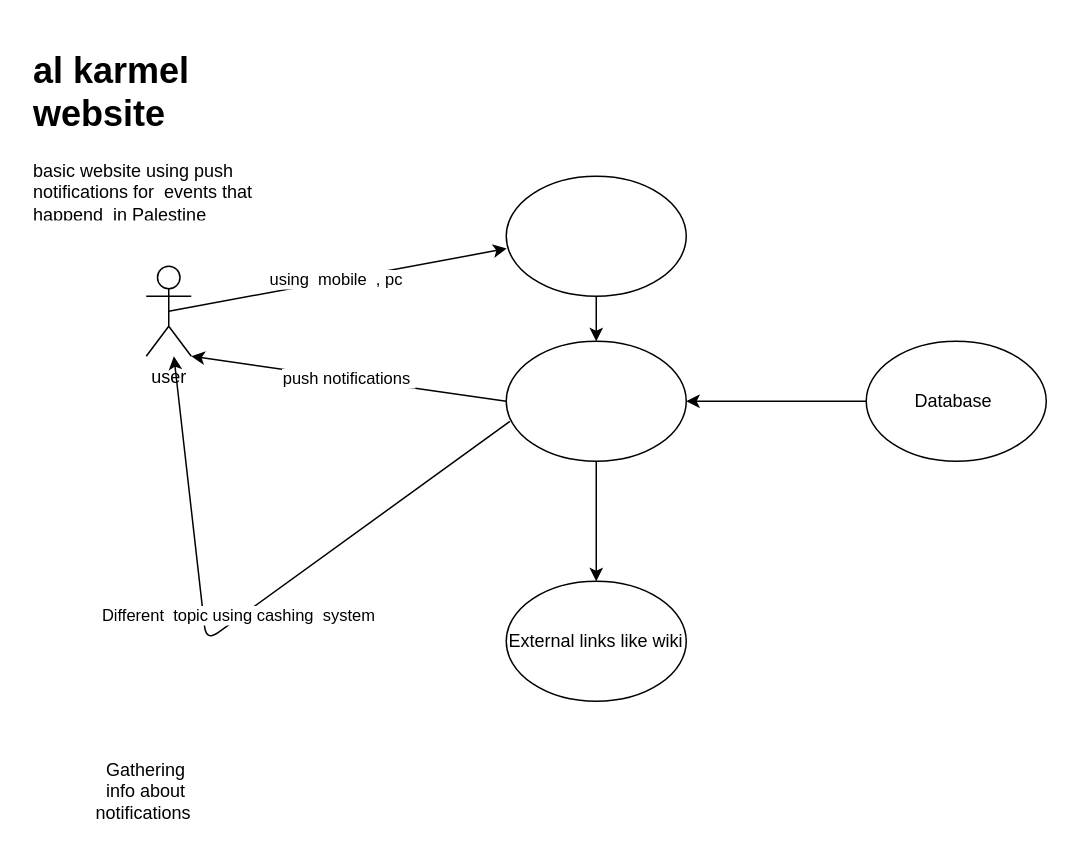
The diagram is 1073 pixels wide and 849 high, and some of its shapes have lost their labels. The shapes that lost their labels are listed below. From the top down, each one's centre as x and y in pixels, then its label:
[595,235]: login page using google or facebook authentication
[595,400]: home page
